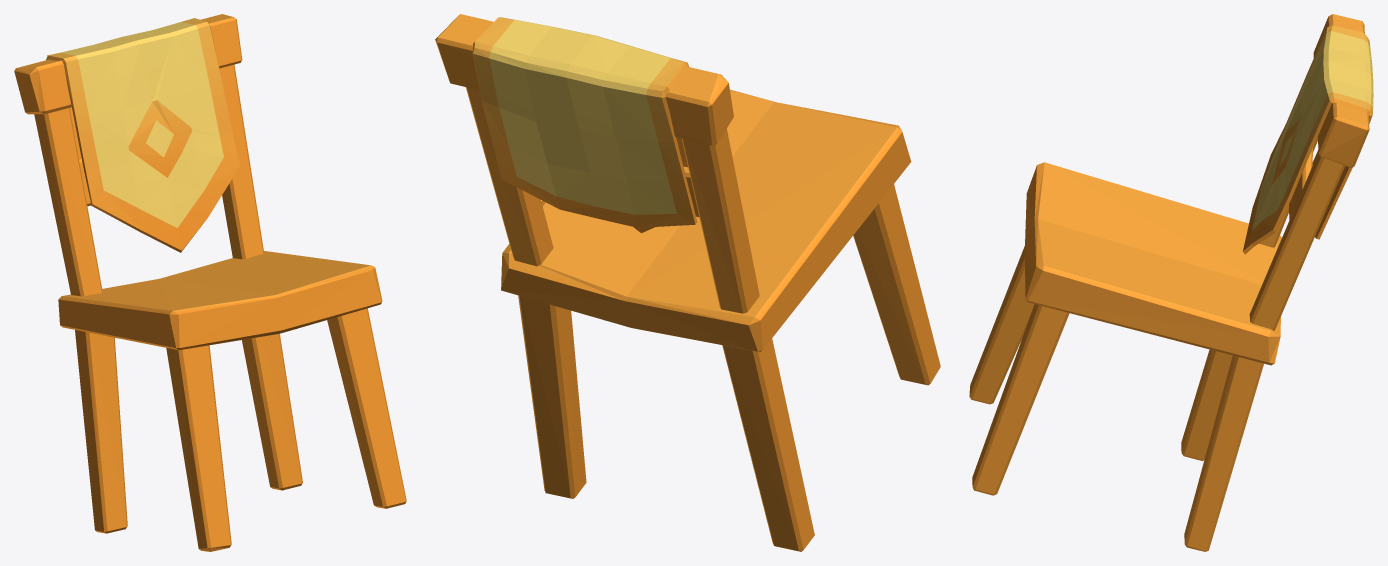
The model's file is CharSkyKid_Prop_TableGold.glb.
3 views of the same model, side by side, from view 1: azimuth 30°, elevation 25°; view 2: azimuth 150°, elevation 25°; view 3: azimuth 270°, elevation 25° (orthographic). The views are drawn at different scales.
Visible parts, largest first — view 1: CharSkyKid_Prop_TableGold; view 2: CharSkyKid_Prop_TableGold; view 3: CharSkyKid_Prop_TableGold.
Part boxes in pixels (x1=…): CharSkyKid_Prop_TableGold: x1=14, y1=14, x2=406, y2=551; CharSkyKid_Prop_TableGold: x1=435, y1=14, x2=940, y2=551; CharSkyKid_Prop_TableGold: x1=969, y1=14, x2=1373, y2=551.
Size of the model in its own units: 2.96 by 5.61 by 4.64.
Materials: 1 (1 with a texture image).
